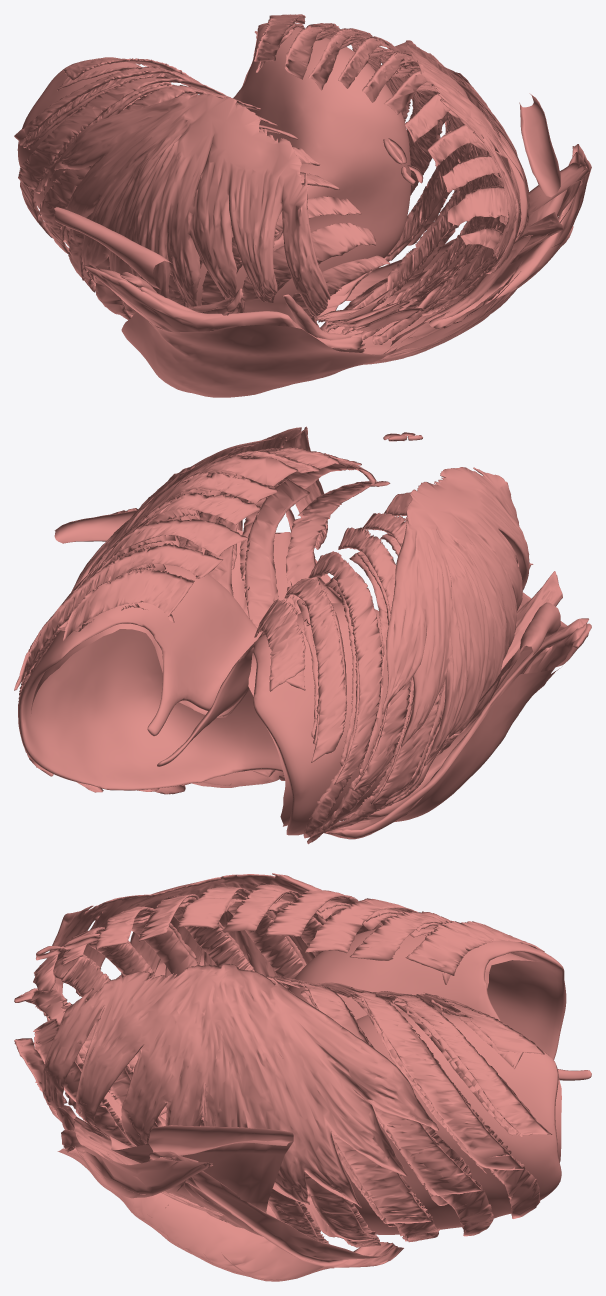
Rendered from thorax__muscular.8b37f8adb8.glb.
The picture shows the model from 3 angles, top to bottom: view 1: azimuth 30°, elevation 25°; view 2: azimuth 150°, elevation 25°; view 3: azimuth 270°, elevation 25°; orthographic projection.
Parts seen in each view (by area): view 1: Serratus anterior muscle.r, Diaphragm, External intercostal muscles.r, External intercostal muscles.l, Pectoral fascia.r, Innermost intercostal muscles.l, Serratus anterior muscle.l, Clavicular head of pectoralis major muscle.r, Sternocostal head of pectoralis major muscle.l, Clavipectoral fascia.r, Clavicular head of pectoralis major muscle.l, Internal intercostal muscles.l (+10 smaller); view 2: Diaphragm, Serratus anterior muscle.r, External intercostal muscles.l, External intercostal muscles.r, Innermost intercostal muscles.l, Innermost intercostal muscles.r, Internal intercostal muscles.r, Pectoral fascia.r, Serratus anterior muscle.l, Clavipectoral fascia.l, (Abdominal part of pectoralis major muscle).r, Sternocostal head of pectoralis major muscle.r (+5 smaller); view 3: Serratus anterior muscle.l, External intercostal muscles.l, Diaphragm, External intercostal muscles.r, Innermost intercostal muscles.r, Sternocostal head of pectoralis major muscle.l, Clavipectoral fascia.l, Serratus anterior muscle.r, Internal intercostal muscles.l, (Abdominal part of pectoralis major muscle).l, Innermost intercostal muscles.l, Clavicular head of pectoralis major muscle.l (+4 smaller).
Part boxes in pixels (x1=…): Serratus anterior muscle.r: x1=54, y1=92, x2=330, y2=316; Diaphragm: x1=17, y1=23, x2=410, y2=305; External intercostal muscles.r: x1=14, y1=58, x2=390, y2=331; External intercostal muscles.l: x1=254, y1=14, x2=516, y2=315; Pectoral fascia.r: x1=121, y1=312, x2=396, y2=397; Innermost intercostal muscles.l: x1=315, y1=31, x2=507, y2=313; Serratus anterior muscle.l: x1=395, y1=40, x2=529, y2=274; Clavicular head of pectoralis major muscle.r: x1=83, y1=264, x2=362, y2=349; Sternocostal head of pectoralis major muscle.l: x1=320, y1=152, x2=586, y2=362; Clavipectoral fascia.r: x1=54, y1=207, x2=341, y2=340; Clavicular head of pectoralis major muscle.l: x1=429, y1=144, x2=591, y2=328; Internal intercostal muscles.l: x1=256, y1=23, x2=507, y2=344; Diaphragm: x1=18, y1=564, x2=411, y2=835; Serratus anterior muscle.r: x1=382, y1=467, x2=529, y2=760; External intercostal muscles.l: x1=14, y1=446, x2=390, y2=705; External intercostal muscles.r: x1=254, y1=492, x2=519, y2=805; Innermost intercostal muscles.l: x1=24, y1=472, x2=309, y2=686; Innermost intercostal muscles.r: x1=296, y1=520, x2=445, y2=798; Internal intercostal muscles.r: x1=258, y1=533, x2=442, y2=844; Pectoral fascia.r: x1=394, y1=668, x2=559, y2=821; Serratus anterior muscle.l: x1=71, y1=426, x2=330, y2=592; Clavipectoral fascia.l: x1=54, y1=510, x2=341, y2=617; (Abdominal part of pectoralis major muscle).r: x1=324, y1=618, x2=588, y2=839; Sternocostal head of pectoralis major muscle.r: x1=363, y1=623, x2=586, y2=820; Serratus anterior muscle.l: x1=41, y1=963, x2=438, y2=1207; External intercostal muscles.l: x1=14, y1=976, x2=552, y2=1241; Diaphragm: x1=288, y1=929, x2=591, y2=1234; External intercostal muscles.r: x1=14, y1=884, x2=544, y2=1096; Innermost intercostal muscles.r: x1=61, y1=898, x2=436, y2=1117; Sternocostal head of pectoralis major muscle.l: x1=120, y1=1156, x2=329, y2=1280; Clavipectoral fascia.l: x1=62, y1=1117, x2=293, y2=1214; Serratus anterior muscle.r: x1=43, y1=873, x2=384, y2=1026; Internal intercostal muscles.l: x1=80, y1=989, x2=539, y2=1247; (Abdominal part of pectoralis major muscle).l: x1=148, y1=1151, x2=403, y2=1267; Innermost intercostal muscles.l: x1=78, y1=991, x2=529, y2=1241; Clavicular head of pectoralis major muscle.l: x1=61, y1=1130, x2=212, y2=1198.
Bounding box in the file's own units: 388 × 230 × 387.
